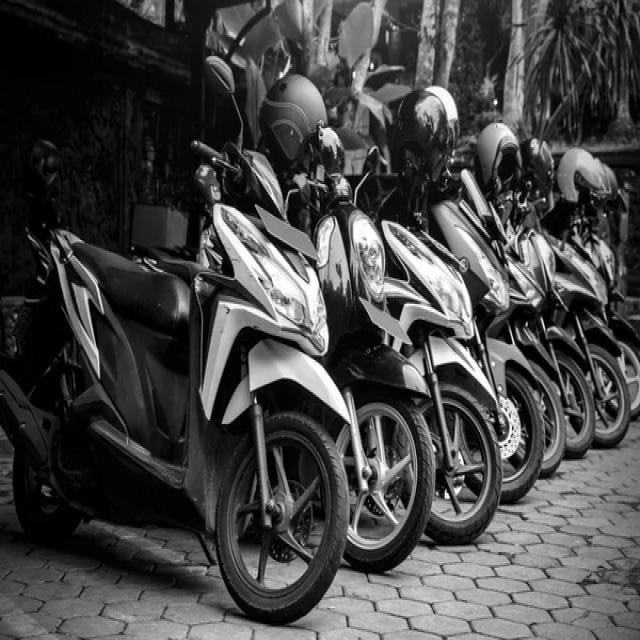Motorcycle: (0, 58, 350, 623), (281, 83, 435, 574), (379, 90, 501, 546), (431, 170, 545, 503), (520, 226, 596, 458), (551, 234, 632, 448), (502, 245, 568, 478)
